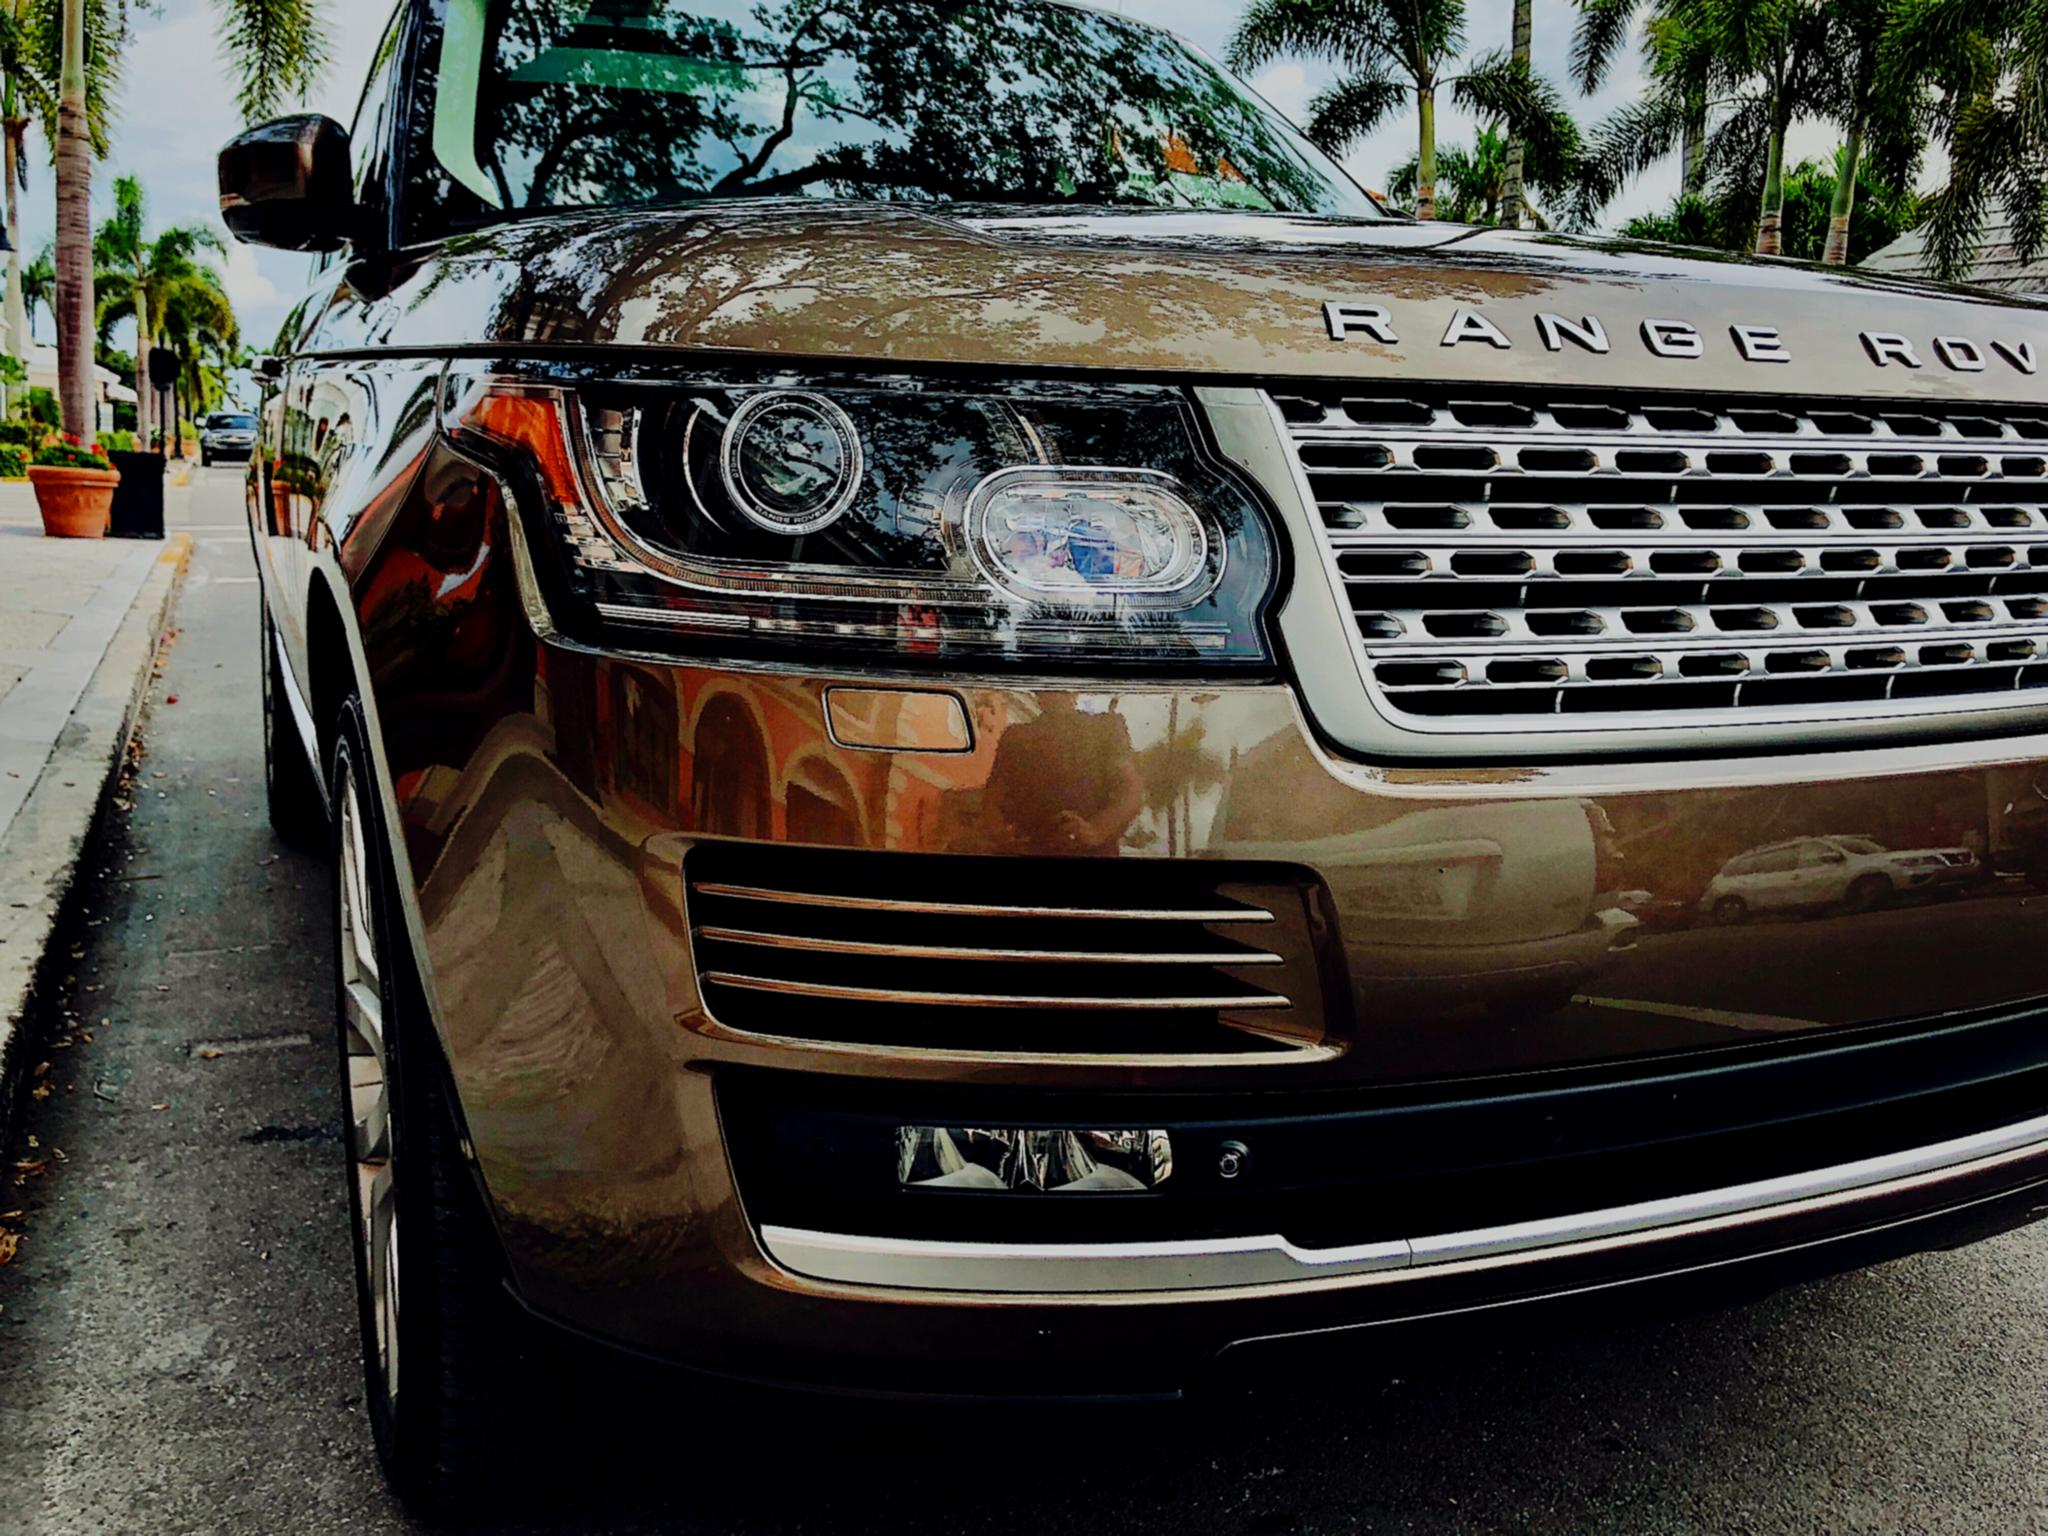range rover: (1297, 269, 2048, 410)
